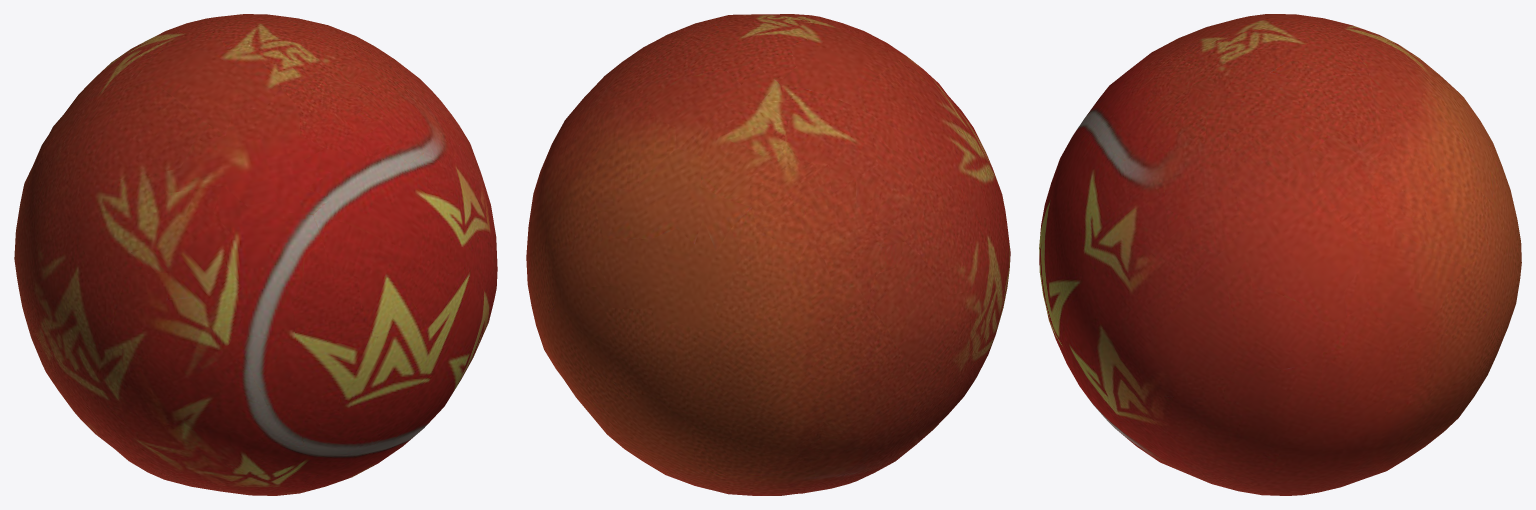
Rendered from Meshy_AI_Royal_Rally_1024220842_texture.glb.
The picture shows the model from 3 angles, left to right: view 1: azimuth 30°, elevation 25°; view 2: azimuth 150°, elevation 25°; view 3: azimuth 270°, elevation 25°; orthographic projection.
Size of the model in its own units: 0.9507 by 0.9526 by 0.9458.
1 material, 1 textured.
